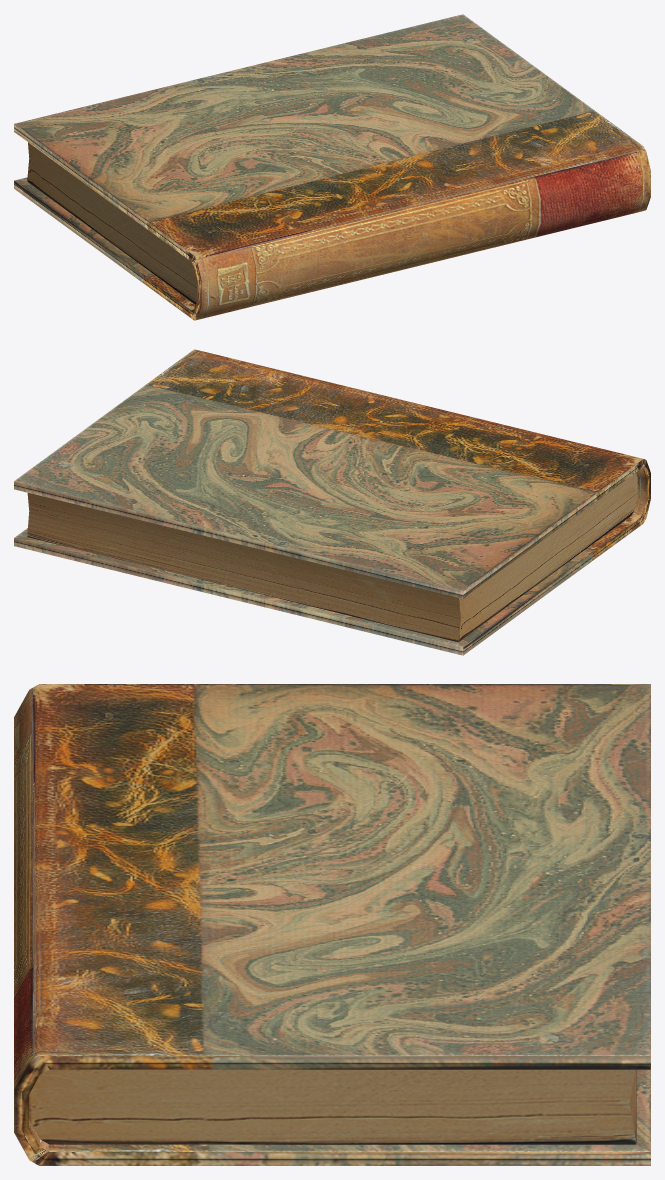
Rendered from Book02.FBX.
3 views of the same model, one above another, from view 1: azimuth 30°, elevation 25°; view 2: azimuth 150°, elevation 25°; view 3: azimuth 270°, elevation 25° (orthographic). The views are drawn at different scales.
Parts seen in each view (by area): view 1: Box001; view 2: Box001; view 3: Box001.
Boxes of the visible parts, x1,y1,x2,y2 form: Box001: (14, 14, 650, 320); Box001: (14, 349, 650, 655); Box001: (14, 684, 650, 1165).
Bounding box in the file's own units: 11.42 × 8.27 × 1.57.
